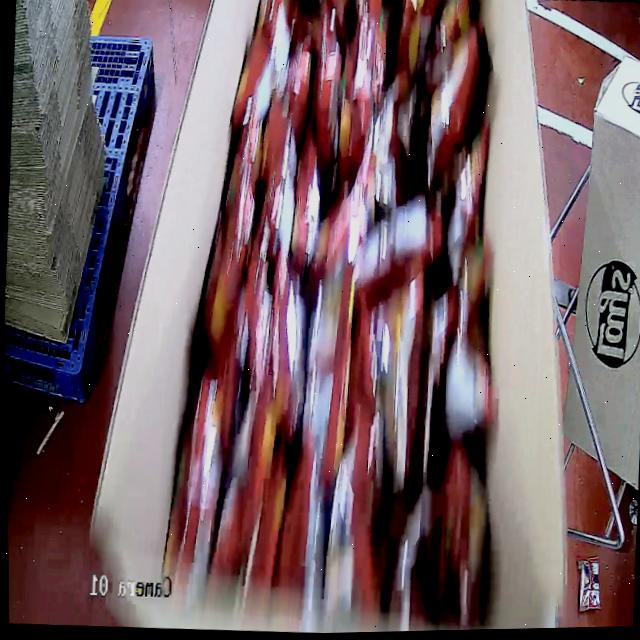MASALA: (152, 0, 520, 637)
